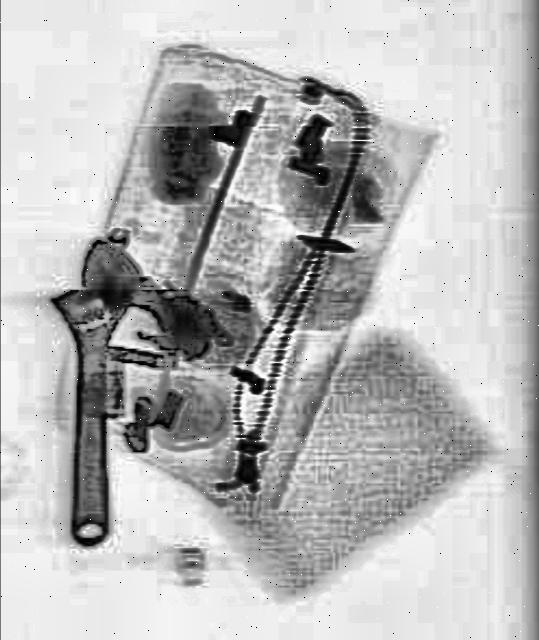Wrench: (44, 242, 148, 552)
